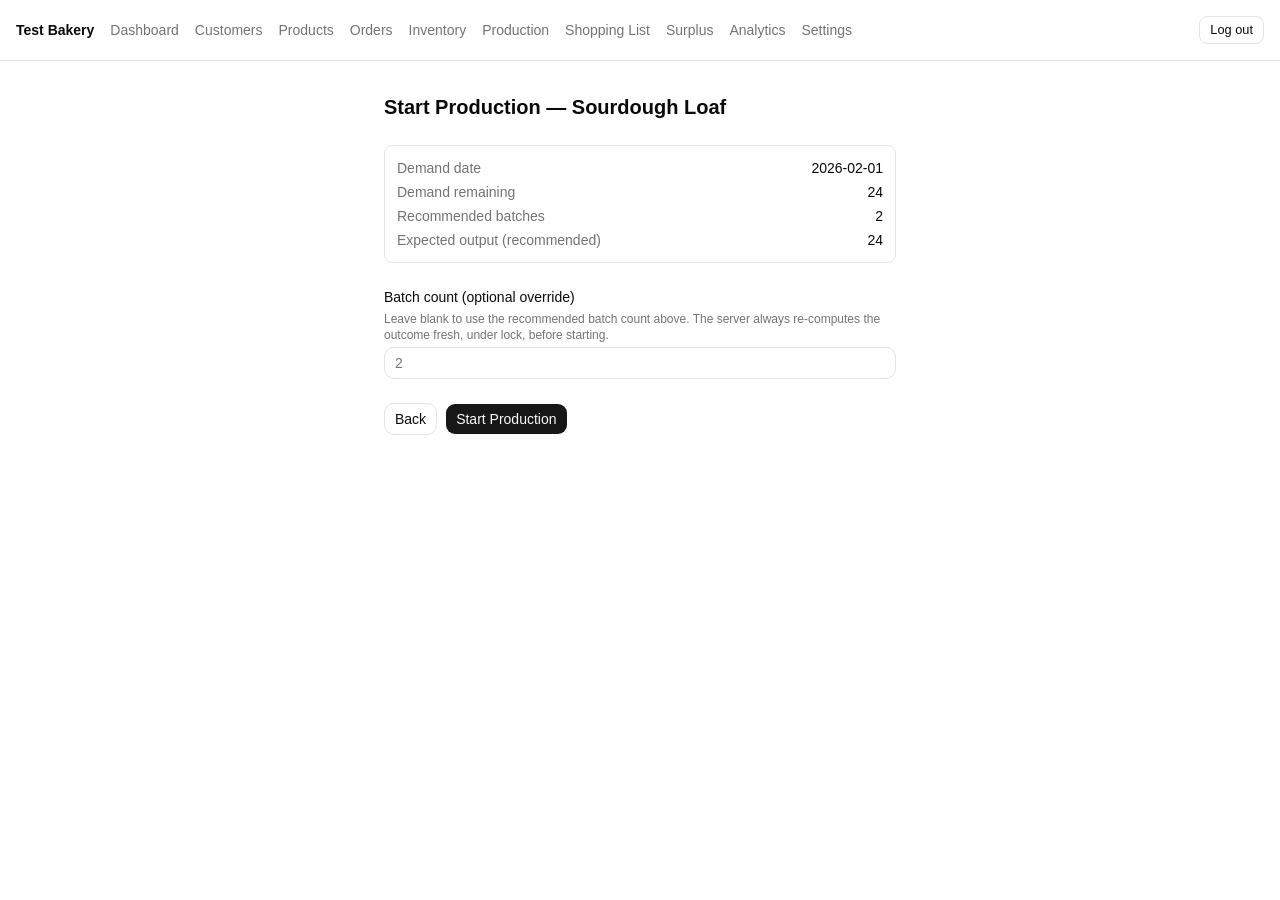
Start Production page › starts production with the recommended batch count
The image size is (1280, 900).
expect the heading "Start Production — Sourdough Loaf" is shown: met, box [384, 96, 726, 118]
Click the button "Start Production": [506, 419] box [445, 403, 568, 435]
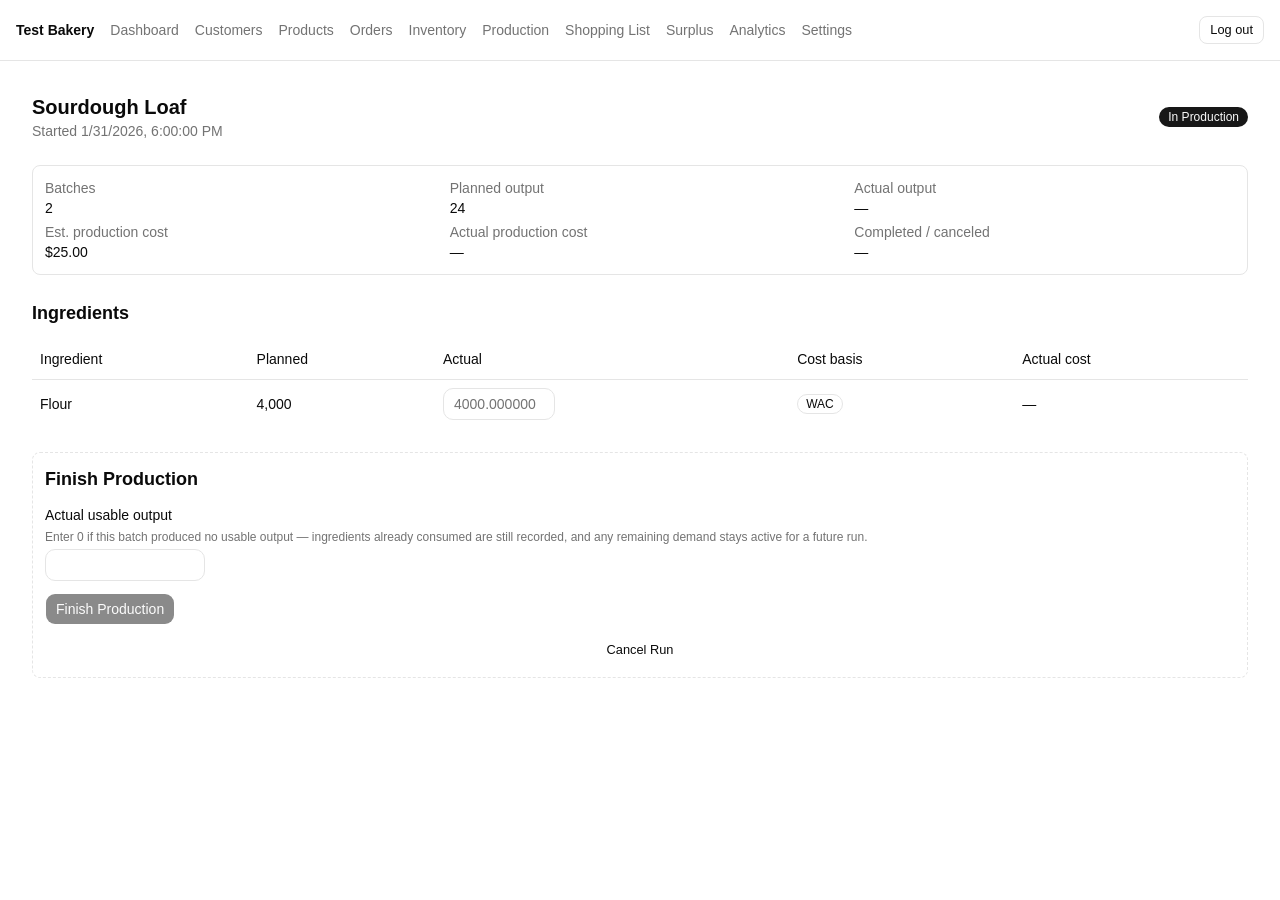
expect the text "Started 1/31/2026, 6:00:00 PM" is shown: met, box [32, 121, 223, 141]
